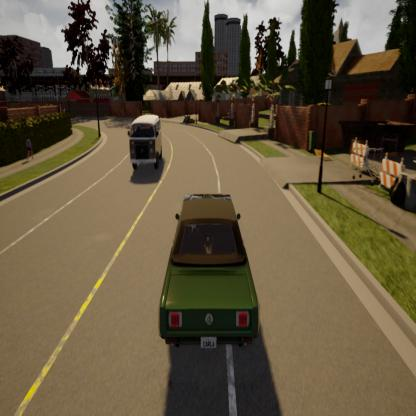Cars: (152, 185, 263, 360), (124, 106, 166, 175)
Pedestrian: (23, 133, 36, 167)
